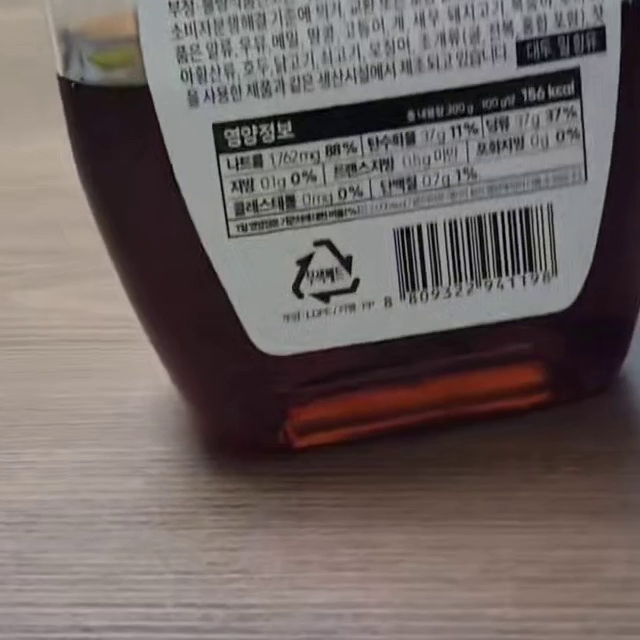ColorlessPet: (292, 240, 362, 305)
